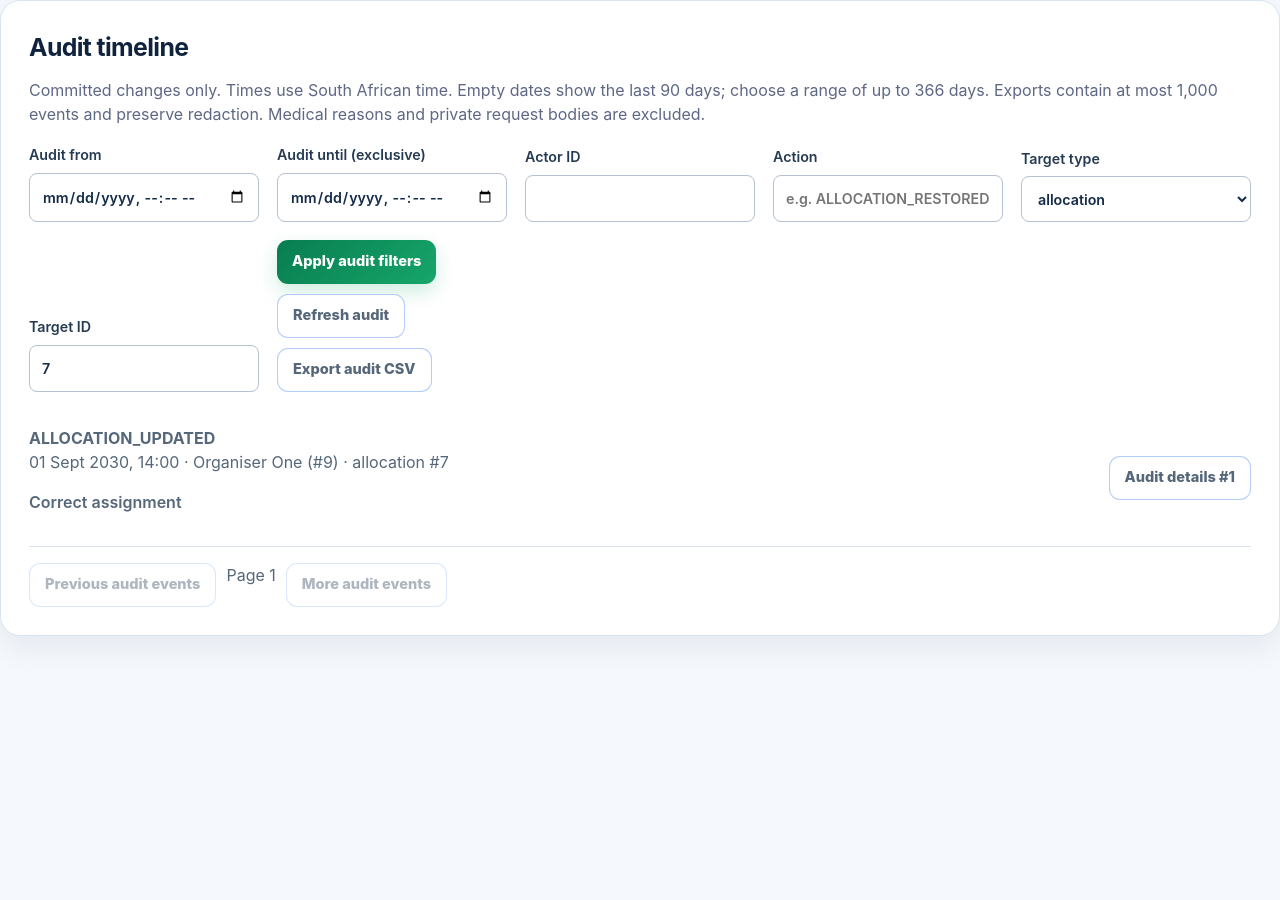
opens target context from the audit link and exports applied filters
The width and height of the screenshot is (1280, 900).
Expected: the button "Audit details #1" is shown, 1108,456 -> 1251,500
Step 1. Click the button "Export audit CSV" → (354, 370), box 277,348 -> 432,392
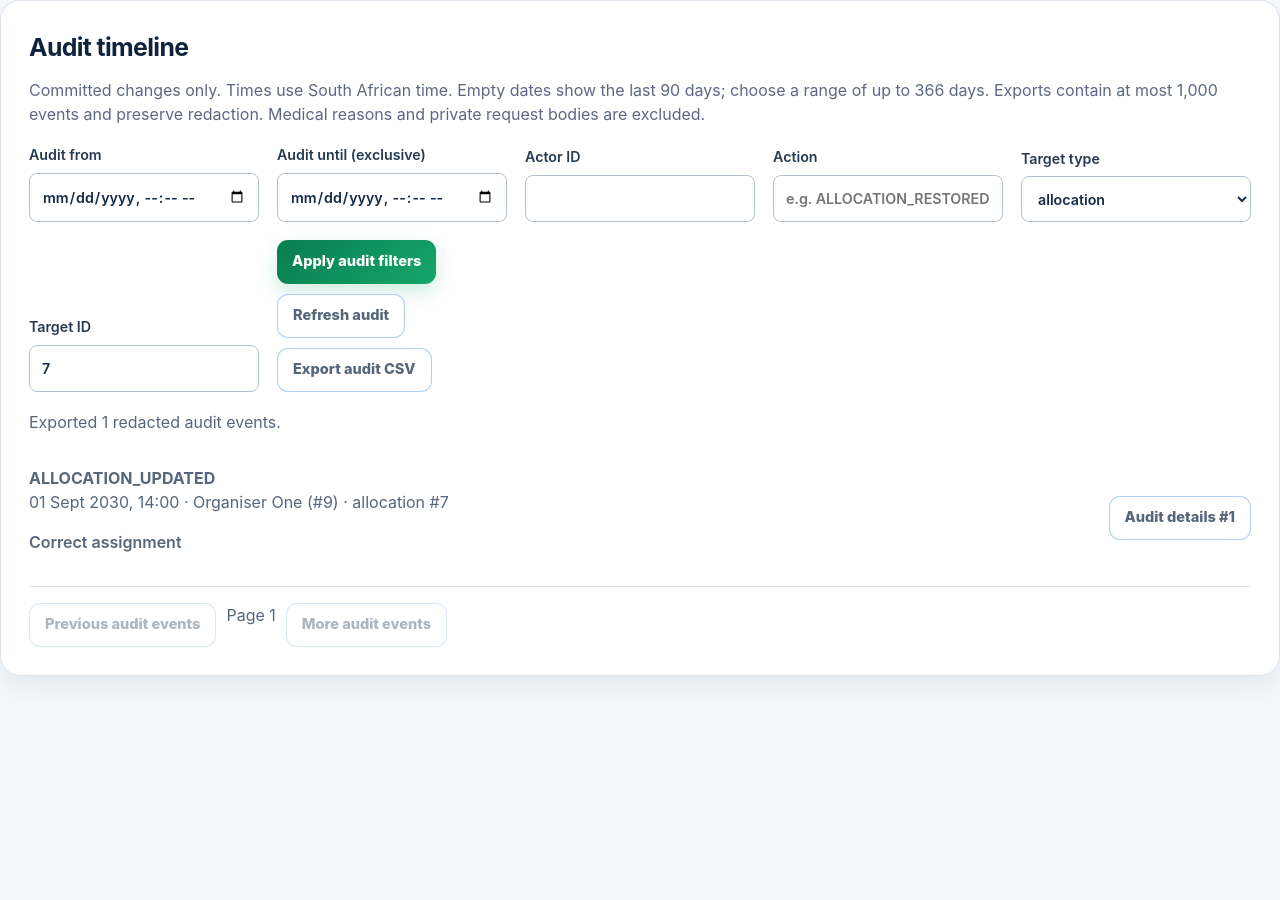
Expected: the text "Exported 1 redacted audit events." is shown, 29,412 -> 281,432
